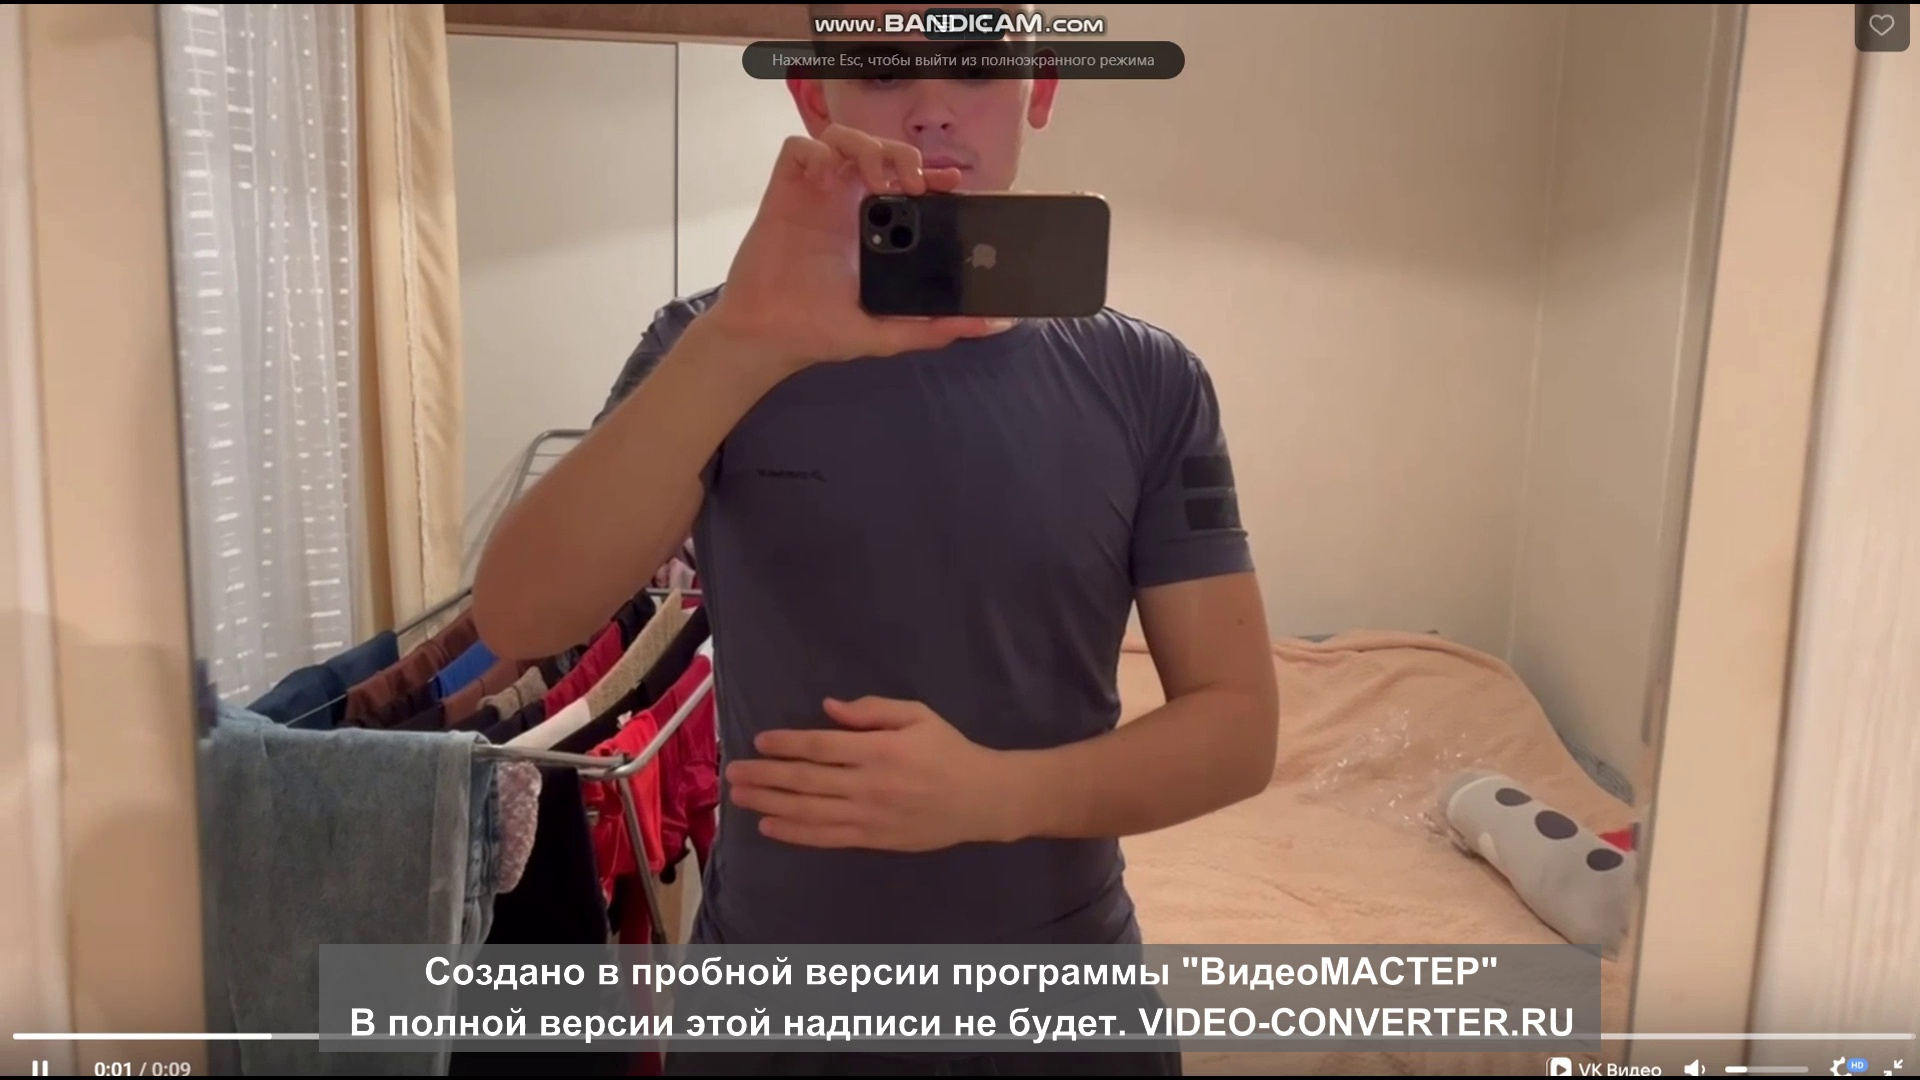Кисть: (721, 674, 975, 860)
